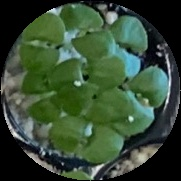Basil: (46, 118, 121, 165), (52, 79, 132, 123), (120, 67, 167, 130), (58, 7, 114, 58), (22, 14, 62, 75), (50, 57, 121, 91), (22, 68, 56, 125), (110, 16, 142, 72)
